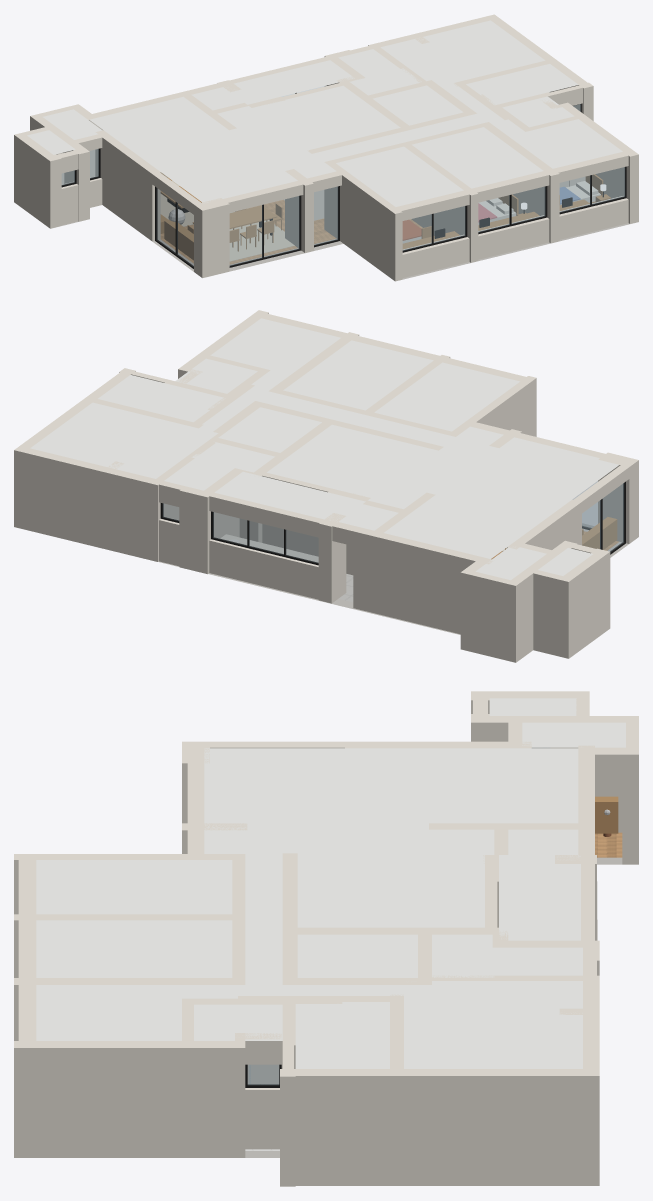
File: modelo_escandinavo.glb
The picture shows the model from 3 angles, top to bottom: view 1: azimuth 30°, elevation 25°; view 2: azimuth 150°, elevation 25°; view 3: azimuth 270°, elevation 25°; orthographic projection. The views are drawn at different scales.
Visible parts, largest first — view 1: Teto_Sala_0, Teto_Suíte master_0, Teto_Cozinha_1, Parede_37, Parede_08, Teto_Quarto 2_0, Teto_Quarto 1_0, Vidro_3, Parede_04, Teto_Suíte_1, Parede_09, Teto_Área de serviço_1 (+51 smaller); view 2: Teto_Sala_0, Parede_21, Parede_11, Teto_Suíte master_0, Teto_Cozinha_1, Teto_Quarto 2_0, Teto_Quarto 1_0, Parede_00, Teto_Suíte_1, Parede_04, Peitoril_5, Teto_Área de serviço_1 (+43 smaller); view 3: Parede_30, Teto_Sala_0, Parede_34, Teto_Suíte master_0, Teto_Cozinha_1, Teto_Quarto 2_0, Teto_Quarto 1_0, Teto_Suíte_1, Teto_Sala_1, Teto_Área de serviço_1, Teto_Banho social_0, Teto_Escritório_0 (+45 smaller).
Part boxes in pixels (x1,y1,x2,y2): Teto_Sala_0: (89, 96, 297, 203); Teto_Suíte master_0: (380, 20, 545, 86); Teto_Cozinha_1: (251, 85, 400, 150); Parede_37: (324, 160, 402, 281); Parede_08: (95, 130, 160, 241); Teto_Quarto 2_0: (412, 127, 543, 188); Teto_Quarto 1_0: (336, 146, 463, 206); Vidro_3: (230, 196, 299, 265); Parede_04: (14, 135, 59, 228); Teto_Suíte_1: (508, 119, 622, 168); Parede_09: (194, 198, 229, 277); Teto_Área de serviço_1: (225, 60, 354, 104); Teto_Sala_0: (384, 437, 618, 558); Parede_21: (14, 448, 155, 559); Parede_11: (353, 527, 492, 634); Teto_Suíte master_0: (30, 402, 218, 478); Teto_Cozinha_1: (267, 424, 436, 497); Teto_Quarto 2_0: (283, 340, 433, 410); Teto_Quarto 1_0: (374, 362, 519, 431); Parede_00: (460, 569, 520, 662); Teto_Suíte_1: (210, 318, 340, 374); Parede_04: (558, 549, 610, 658); Peitoril_5: (209, 537, 318, 599); Teto_Área de serviço_1: (214, 471, 365, 522); Parede_30: (280, 1069, 599, 1185); Teto_Sala_0: (204, 748, 578, 823); Parede_34: (14, 1041, 245, 1157); Teto_Suíte master_0: (404, 981, 582, 1068); Teto_Cozinha_1: (297, 854, 484, 927); Teto_Quarto 2_0: (36, 920, 232, 977); Teto_Quarto 1_0: (36, 860, 232, 914); Teto_Suíte_1: (36, 985, 181, 1040); Teto_Sala_1: (204, 823, 428, 853); Teto_Área de serviço_1: (499, 855, 580, 940); Teto_Banho social_0: (295, 1002, 389, 1068); Teto_Escritório_0: (297, 934, 417, 977).
Size of what is drawn, in the model's own units: 19.56 by 2.6 by 13.4.
26 materials, 3 textured.
